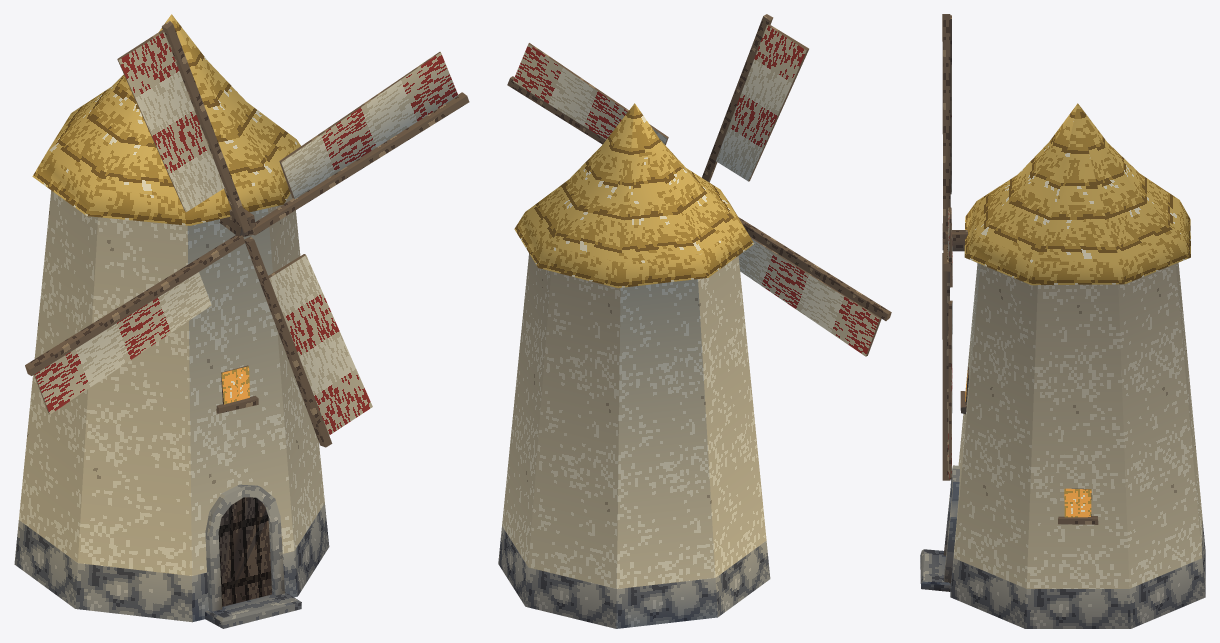
The model's file is vlg.mill.glb.
3 renders of one model, left to right at view 1: azimuth 30°, elevation 25°; view 2: azimuth 150°, elevation 25°; view 3: azimuth 270°, elevation 25°, orthographic. The views are drawn at different scales.
Visible parts, largest first — view 1: kit_walls, kit_fittings, kit_roof, kit_frame; view 2: kit_walls, kit_roof, kit_fittings, kit_frame; view 3: kit_walls, kit_roof, kit_fittings, kit_frame.
Boxes of the visible parts, x1,y1,x2,y2 form: kit_walls: (14, 190, 329, 622); kit_fittings: (34, 30, 458, 628); kit_roof: (32, 14, 300, 225); kit_frame: (25, 20, 469, 447); kit_walls: (498, 253, 770, 628); kit_roof: (514, 103, 754, 288); kit_fittings: (513, 24, 881, 356); kit_frame: (507, 14, 891, 320); kit_walls: (950, 262, 1205, 628); kit_roof: (964, 103, 1190, 285); kit_fittings: (920, 15, 1098, 591); kit_frame: (942, 14, 967, 480).
Bounding box in the file's own units: 8.33 × 10.99 × 5.37.
9 materials, 9 textured.
